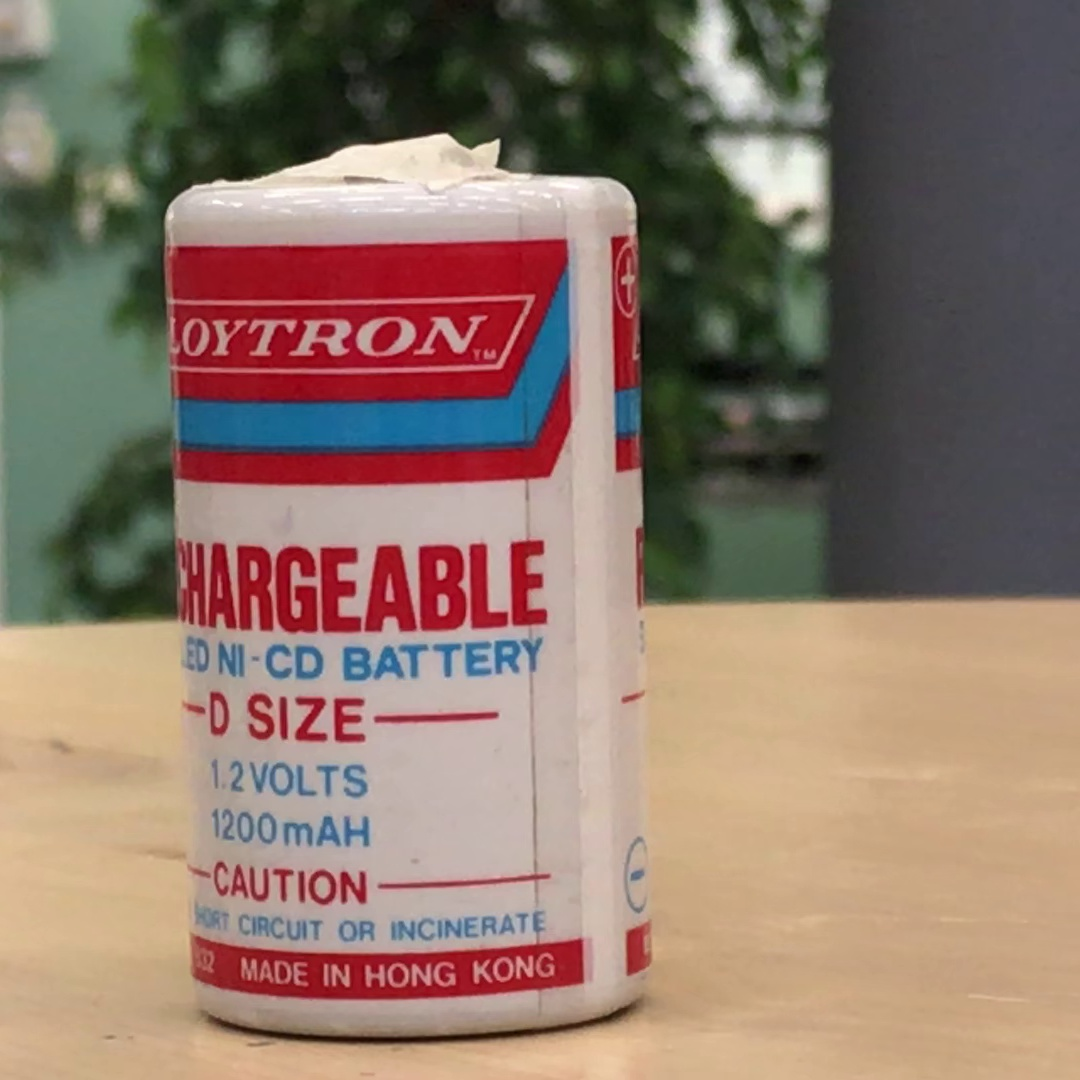keyword: (195, 635, 333, 682)
